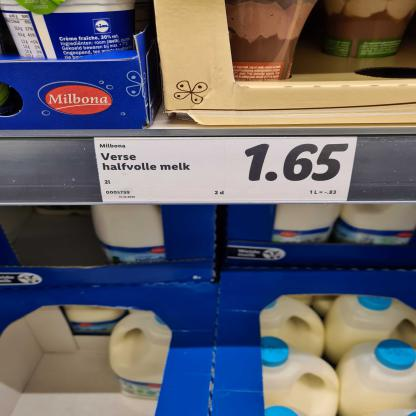prtg: (95, 138, 359, 204)
